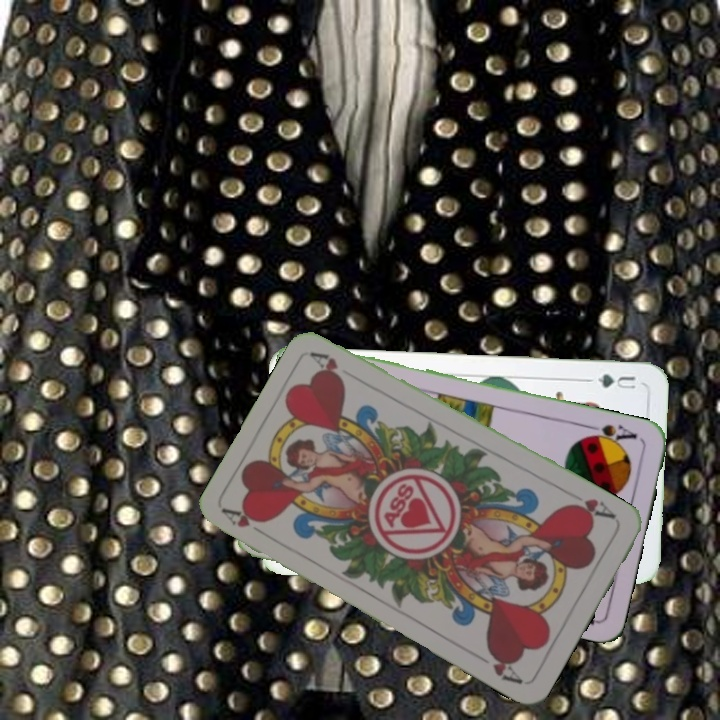GU: (592, 370, 638, 392)
HA: (219, 504, 274, 542), (563, 494, 619, 522)
SA: (581, 420, 639, 448)
